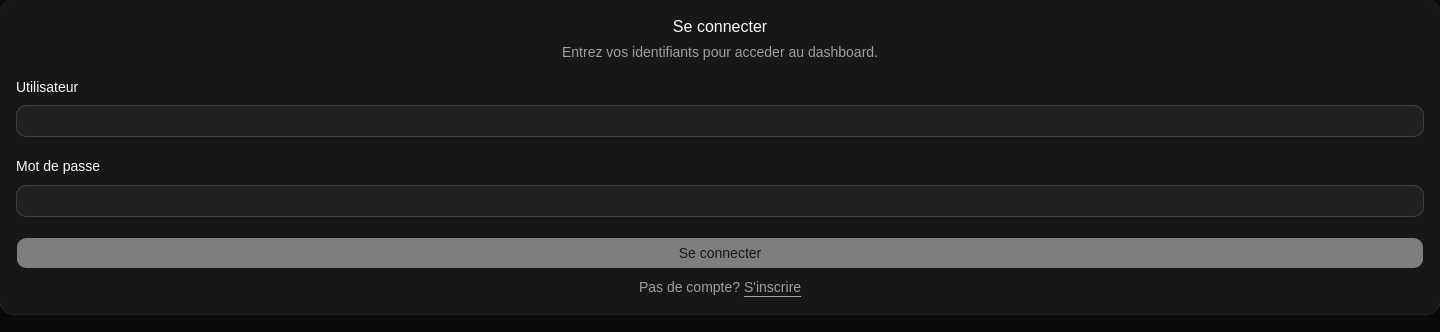
Test: LoginForm › updates field values on change
Type "adrien" into the field labelled "Utilisateur".
click(720, 121); type("adrien")  # box x1=16 y1=105 x2=1424 y2=137
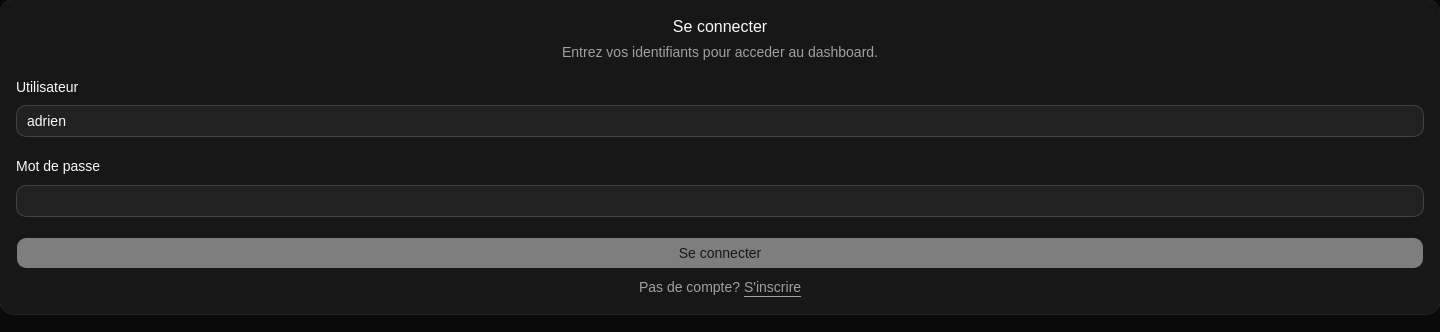
Type "secret" into the password field labelled "Mot de passe".
click(720, 200); type("secret")  # box x1=16 y1=184 x2=1424 y2=216
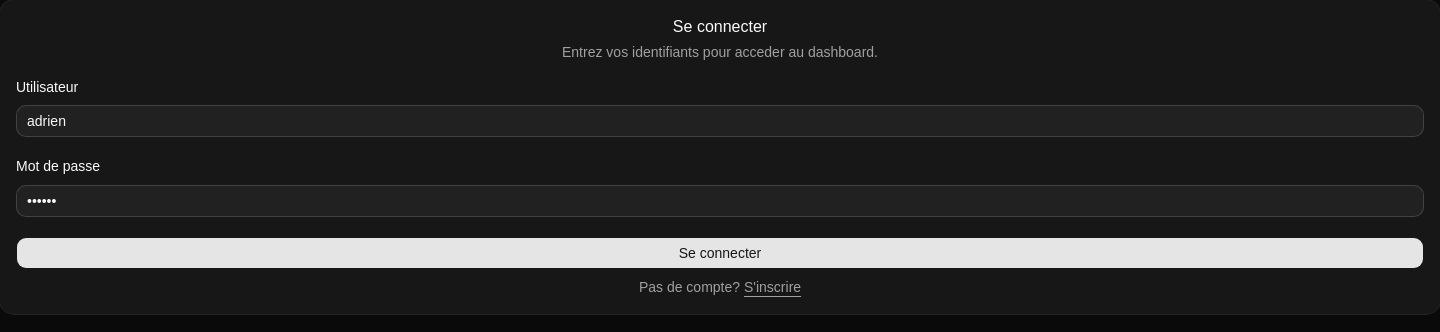
expect the button "Se connecter" is enabled: met, box x1=16 y1=236 x2=1424 y2=268
